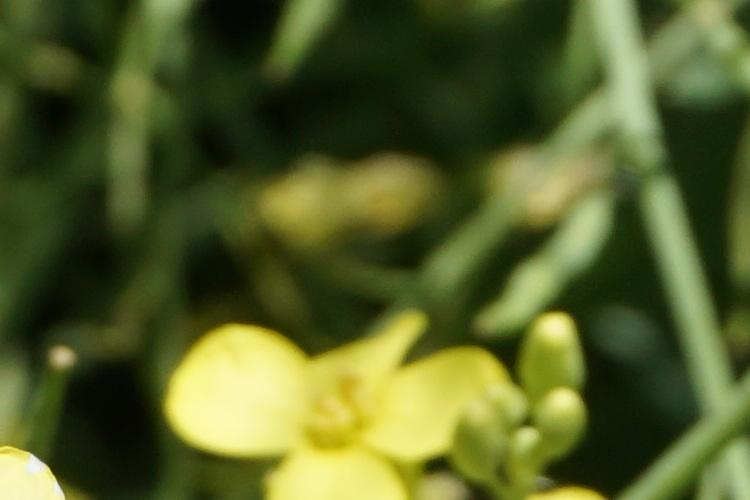bud: (504, 309, 608, 408), (528, 383, 600, 468), (467, 393, 511, 488), (512, 425, 553, 484)
yellow: (203, 301, 505, 487)
